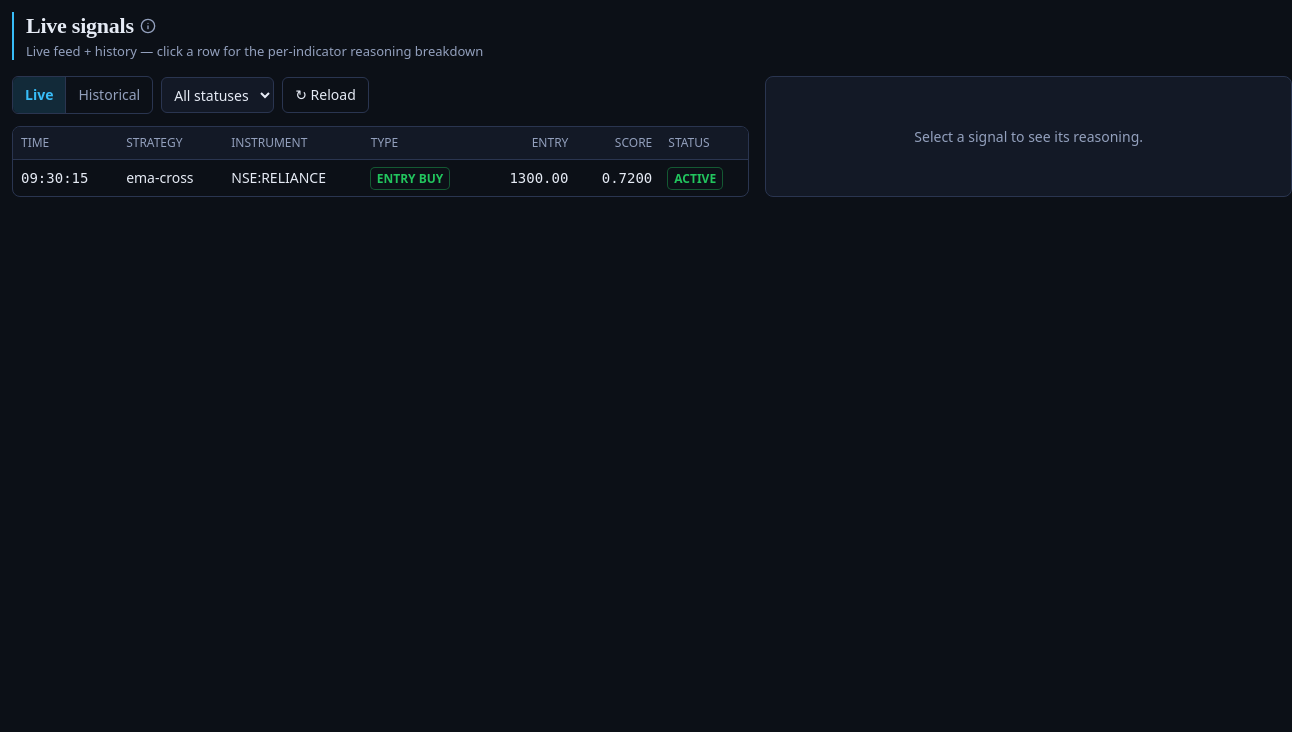
Test: SignalsPage › surfaces a refused dismiss rather than failing silently
Click the text "NSE:RELIANCE". click: (293, 178)
box: 223,160 -> 363,196
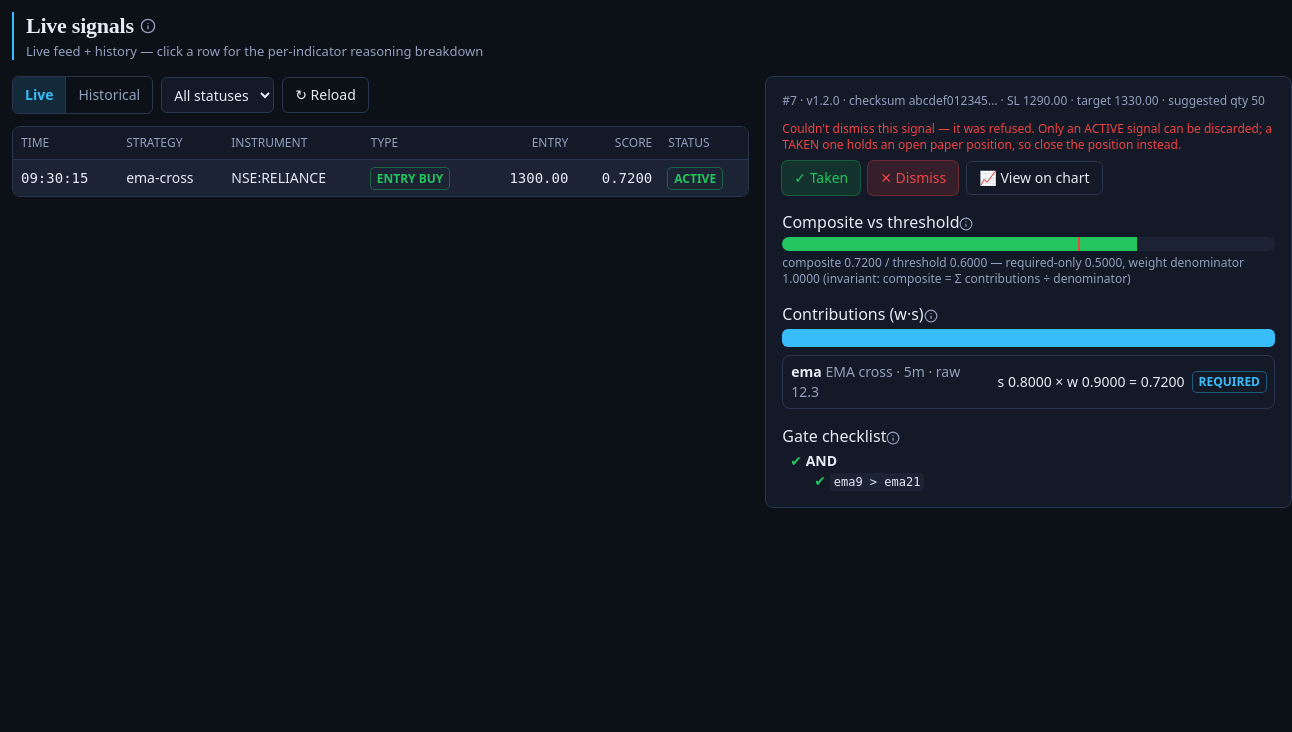
Now the message shows "Couldn't dismiss this signal", box 782,120 -> 1272,153
